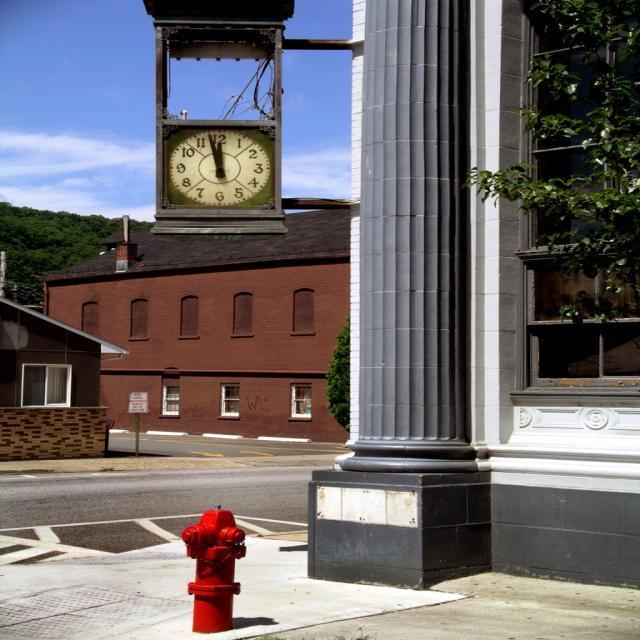fire_hydrant: (179, 509, 246, 634)
